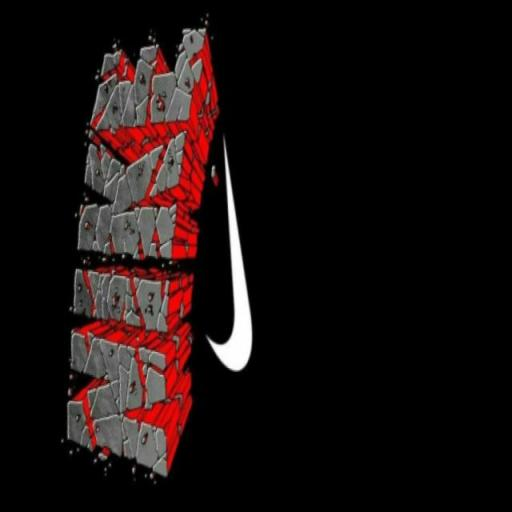Nike: (192, 110, 281, 389)
